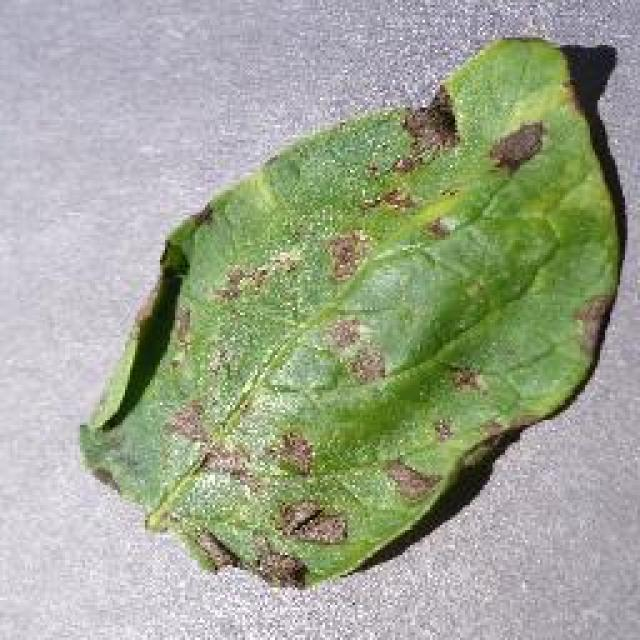early_blight: (75, 30, 630, 595)
